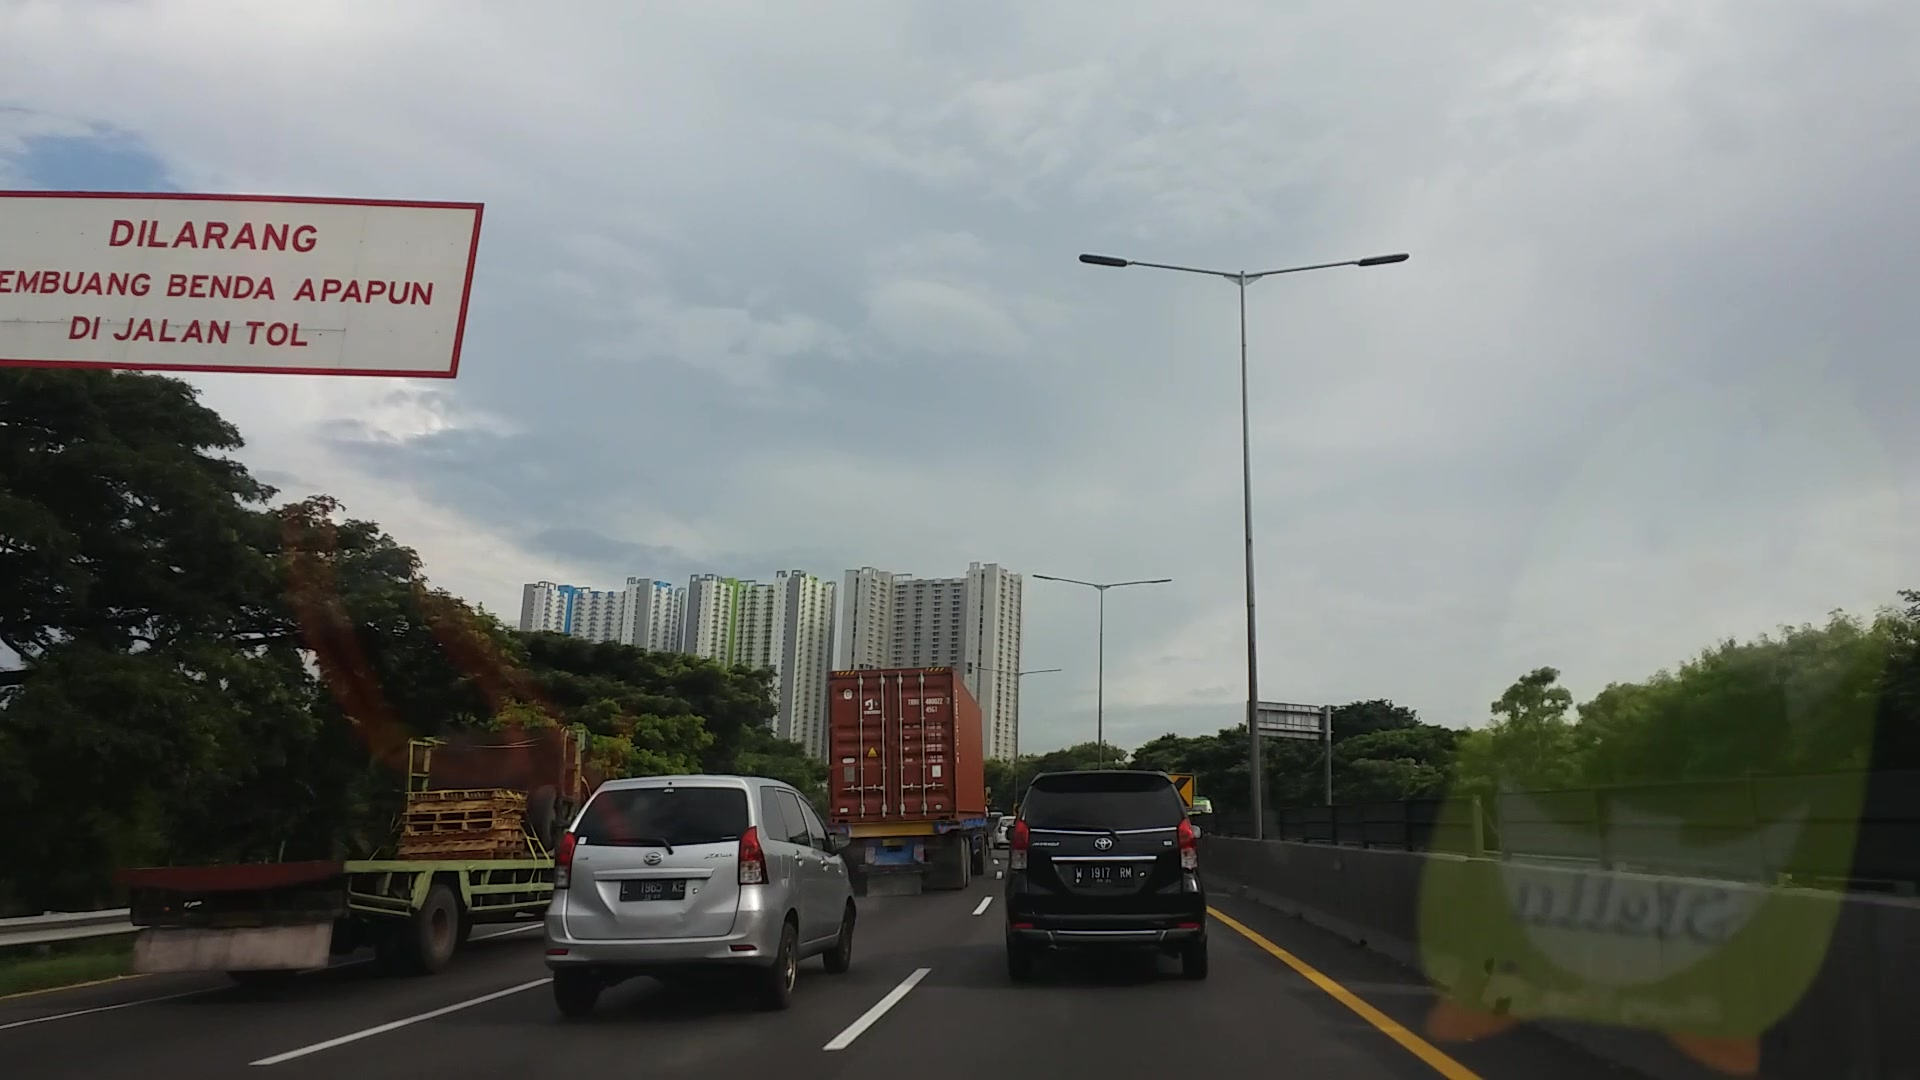plate_positive: (1072, 862, 1135, 887), (620, 880, 684, 901)
